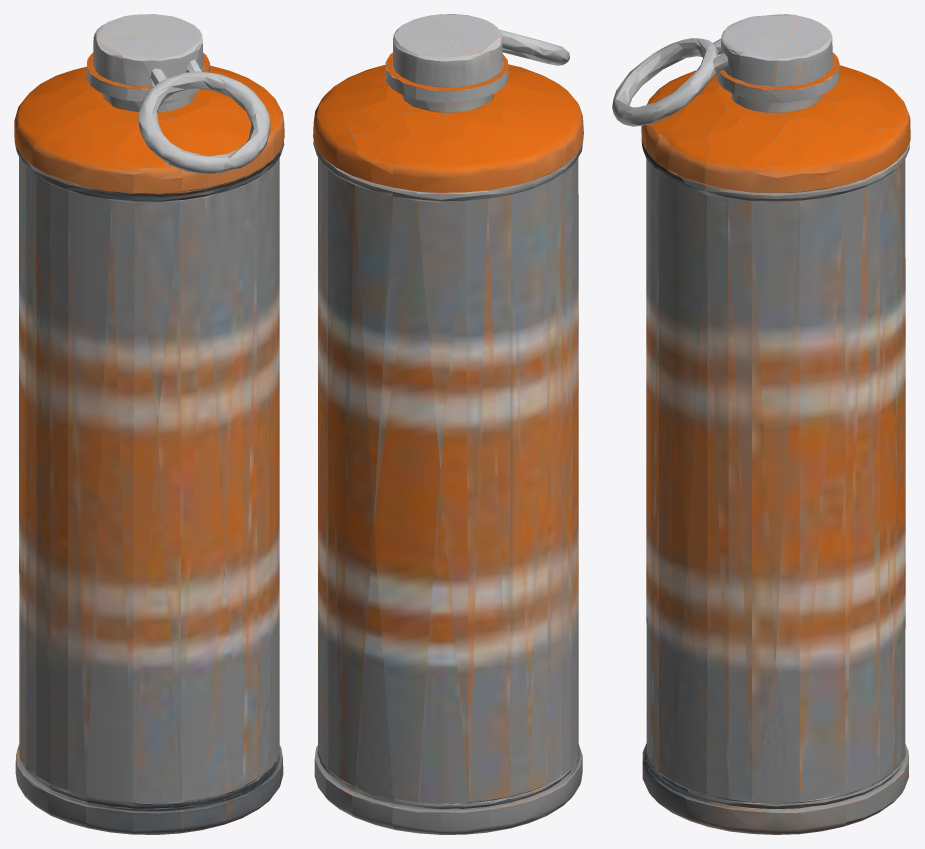
The model's file is fuelpod.glb.
3 renders of one model, left to right at view 1: azimuth 30°, elevation 25°; view 2: azimuth 150°, elevation 25°; view 3: azimuth 270°, elevation 25°, orthographic.
Parts seen in each view (by area): view 1: mesh_node; view 2: mesh_node; view 3: mesh_node.
Part boxes in pixels (left/top/right/bottom): mesh_node: left=14, top=14, right=284, bottom=834; mesh_node: left=313, top=14, right=583, bottom=834; mesh_node: left=612, top=14, right=910, bottom=834.
Bounding box in the file's own units: 0.6204 × 1.9 × 0.6828.
1 material, 1 textured.
